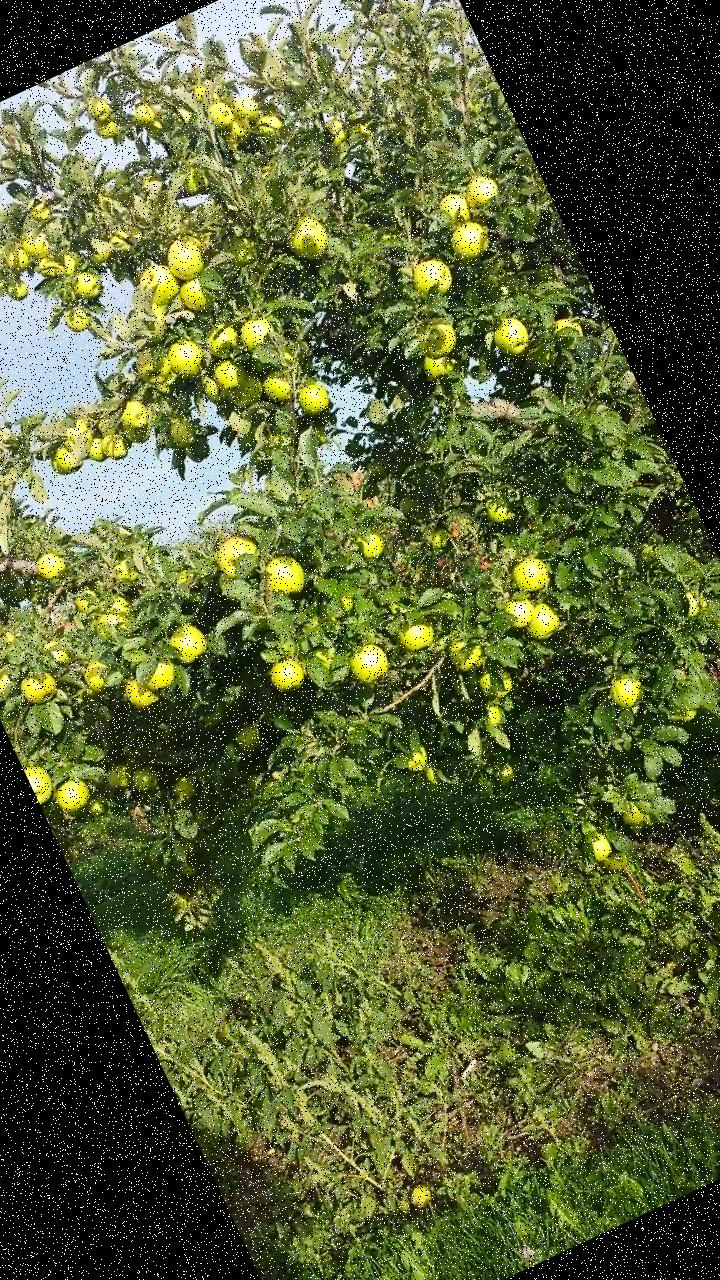Apple: (279, 209, 334, 266), (86, 592, 140, 646), (258, 550, 311, 604), (211, 530, 264, 580), (134, 258, 183, 309), (405, 255, 454, 304), (160, 234, 206, 284), (486, 312, 531, 360), (344, 640, 390, 686), (130, 342, 175, 389), (445, 219, 491, 264), (391, 612, 438, 656), (162, 335, 206, 381), (165, 620, 209, 666), (52, 414, 98, 456), (135, 653, 181, 695), (200, 318, 243, 362), (415, 318, 459, 361), (518, 601, 560, 645), (264, 654, 307, 696), (50, 774, 93, 816), (507, 554, 549, 596), (235, 314, 278, 355), (169, 564, 207, 610), (222, 370, 264, 410), (175, 274, 215, 315), (18, 666, 57, 708), (292, 378, 332, 418), (219, 229, 257, 271), (446, 634, 485, 674), (606, 672, 646, 711), (434, 189, 473, 228), (122, 672, 161, 711), (208, 354, 248, 392), (461, 172, 500, 210), (228, 721, 266, 760), (476, 665, 516, 701), (23, 761, 56, 803), (418, 347, 456, 383), (79, 656, 114, 694), (230, 92, 266, 128), (67, 268, 103, 304), (260, 368, 296, 404), (112, 397, 148, 432), (502, 594, 536, 630), (198, 368, 229, 406), (176, 162, 209, 196), (221, 111, 252, 147), (18, 228, 50, 262), (165, 418, 199, 450), (34, 550, 66, 582), (206, 98, 236, 132), (22, 198, 56, 228), (40, 636, 70, 670), (151, 366, 183, 397), (181, 434, 212, 466), (549, 313, 581, 344), (483, 495, 514, 527), (678, 586, 709, 618), (90, 112, 121, 143), (120, 414, 151, 445), (100, 432, 130, 464), (523, 346, 555, 376), (128, 764, 160, 794), (34, 251, 64, 281), (354, 528, 384, 558), (310, 641, 340, 671), (102, 763, 132, 793), (61, 304, 90, 334), (71, 586, 101, 615), (84, 94, 112, 124), (108, 555, 136, 585), (618, 798, 646, 828), (82, 435, 110, 464), (167, 774, 196, 802), (2, 246, 30, 274), (586, 831, 613, 860), (634, 538, 660, 568), (131, 102, 158, 130), (48, 450, 75, 478), (402, 746, 430, 773), (52, 443, 78, 472), (600, 850, 630, 875), (212, 564, 239, 590), (395, 492, 422, 518), (341, 119, 370, 143), (2, 277, 28, 303), (253, 112, 280, 136), (483, 702, 507, 728), (324, 118, 346, 146), (85, 796, 110, 820), (426, 529, 451, 551), (0, 668, 14, 701), (55, 253, 74, 276), (497, 764, 516, 787), (178, 858, 198, 879), (423, 765, 441, 788), (190, 82, 210, 102), (680, 707, 696, 721), (0, 274, 9, 298), (0, 242, 8, 262)
